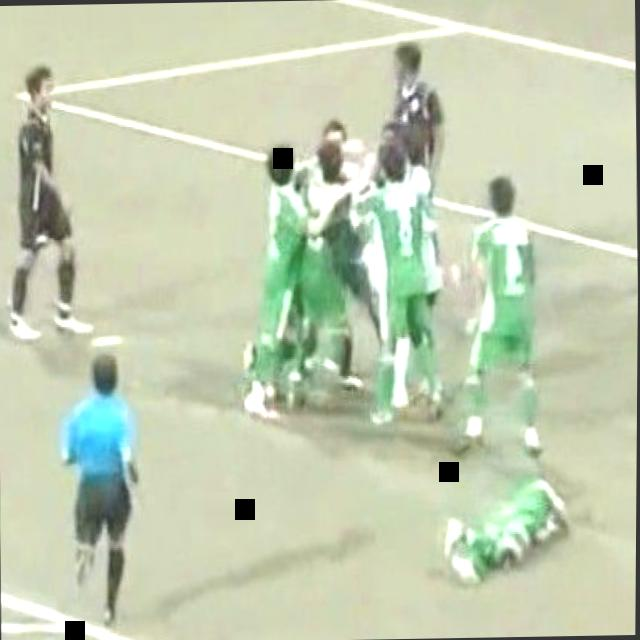Fall-Detected: (435, 451, 586, 596)
